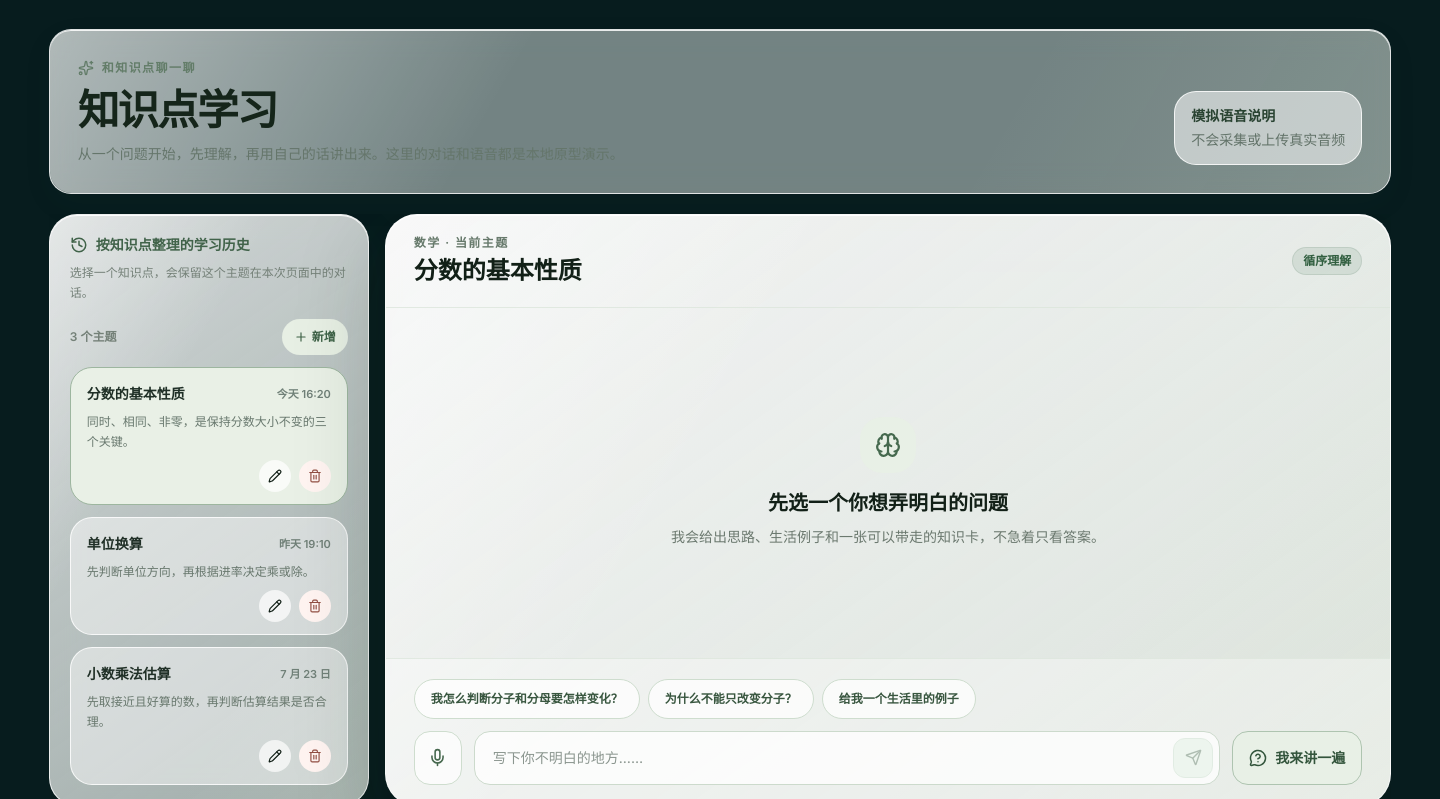
Test: LearningPage › sends the student question to local AI and renders its validated reply
Click the button with aria-label "继续学习单位换算" at [115, 543], box x1=79 y1=526 x2=339 y2=590
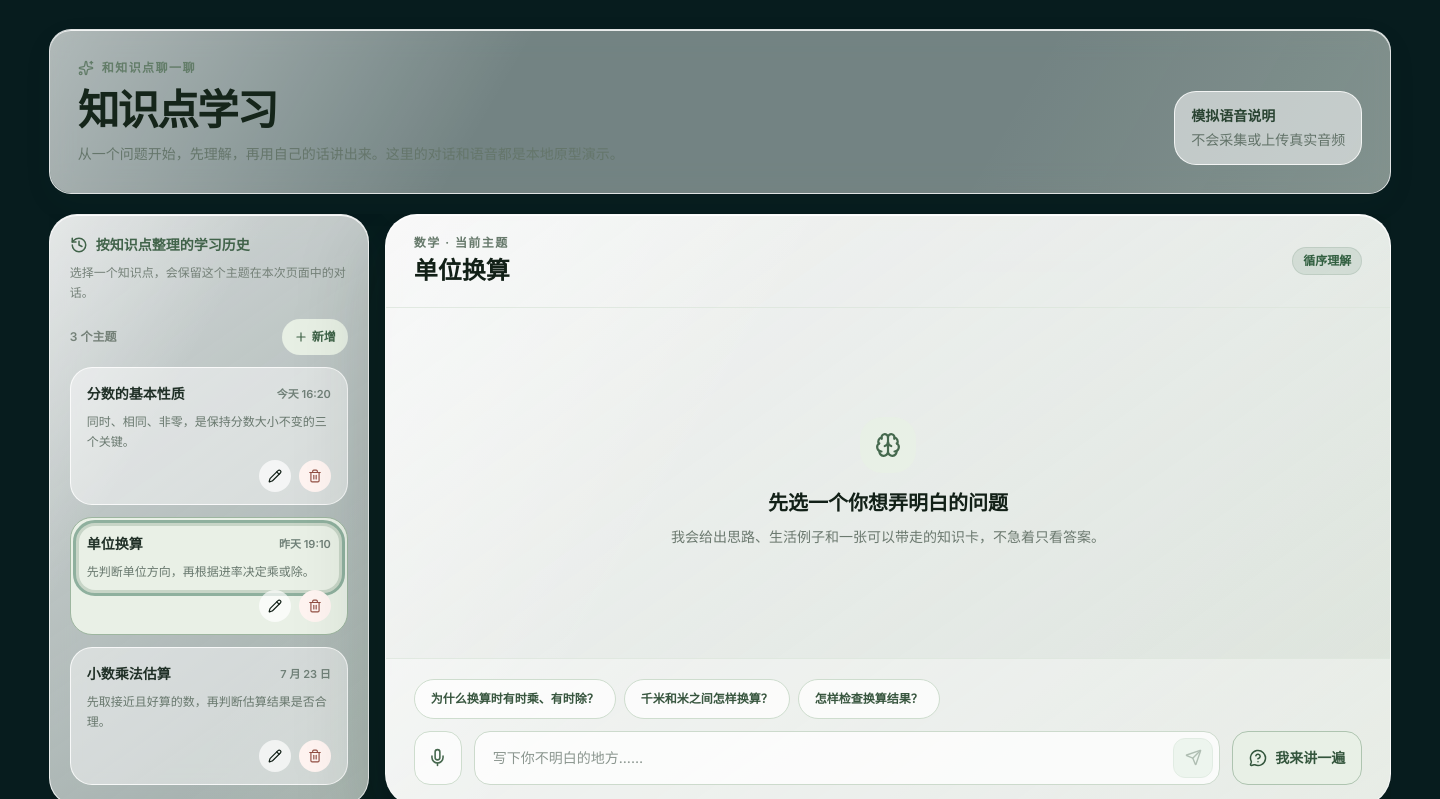
Type "为什么要乘？" into the field named "输入学习问题" at [823, 758], box x1=481 y1=738 x2=1165 y2=778
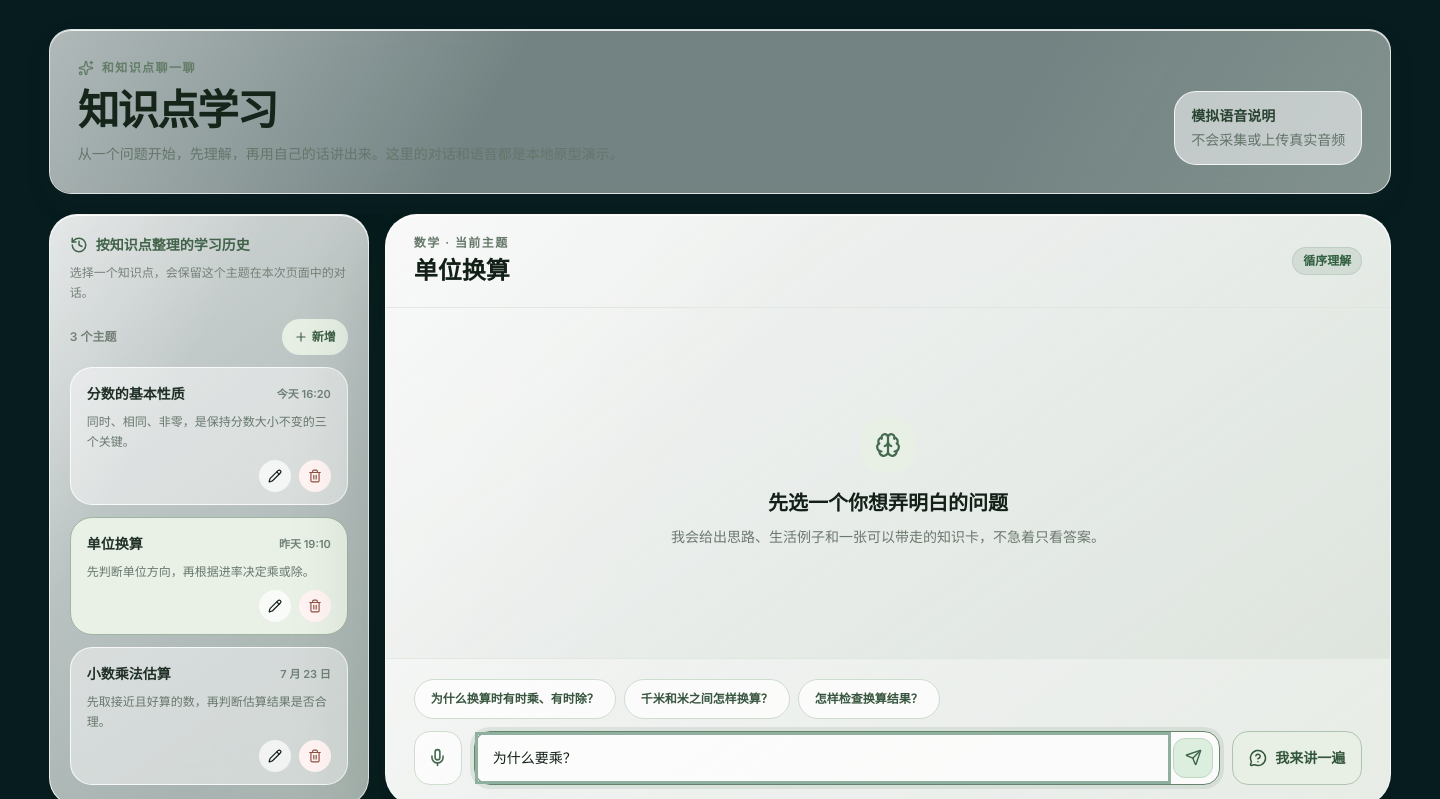
Click the button named "发送问题" at [1193, 758], box x1=1173 y1=738 x2=1213 y2=778
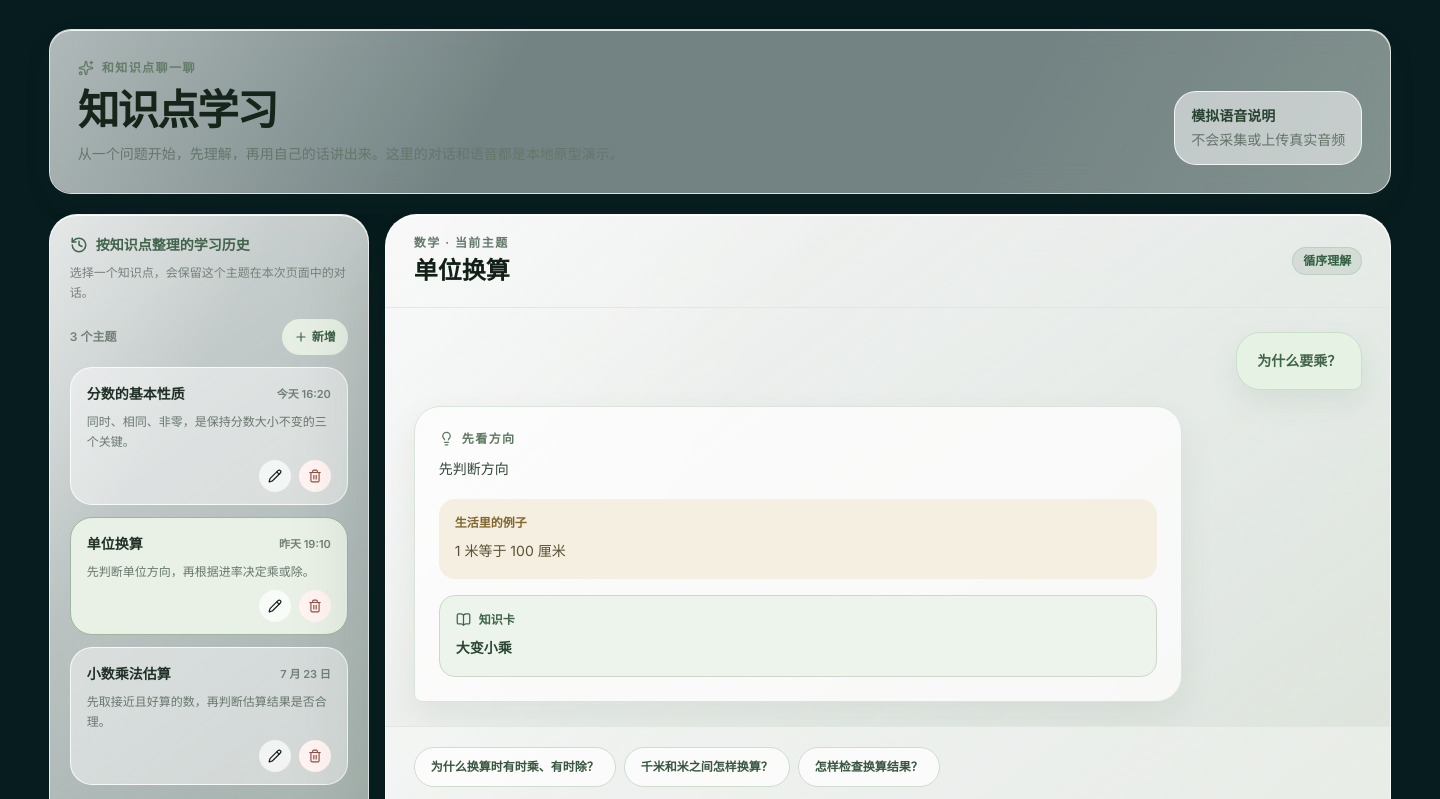
Expected: the text "为什么要乘？" is shown, x1=1236 y1=332 x2=1362 y2=390
Expected: the text "先判断方向" is shown, x1=439 y1=460 x2=509 y2=477
Expected: the text "1 米等于 100 厘米" is shown, x1=455 y1=542 x2=566 y2=559
